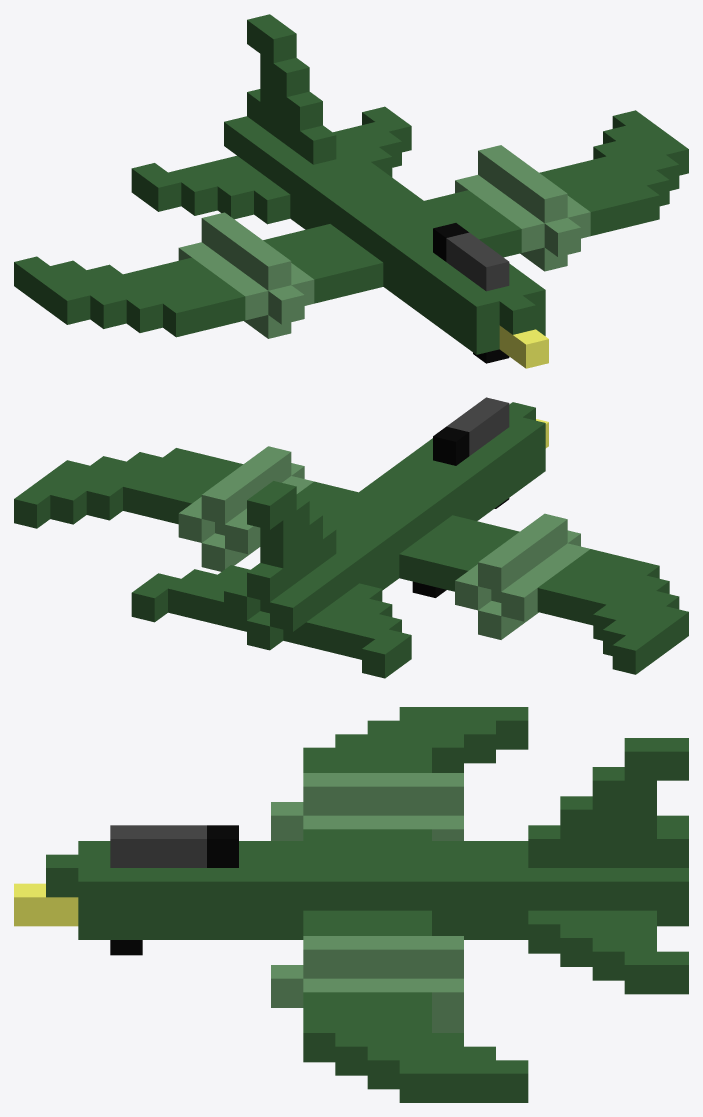
Rendered from bomber_plane.obj.
3 views of the same model, one above another, from view 1: azimuth 30°, elevation 25°; view 2: azimuth 150°, elevation 25°; view 3: azimuth 270°, elevation 25° (orthographic). The views are drawn at different scales.
Bounding box in the file's own units: 27 × 7 × 21.
Materials: 1 (1 with a texture image).
